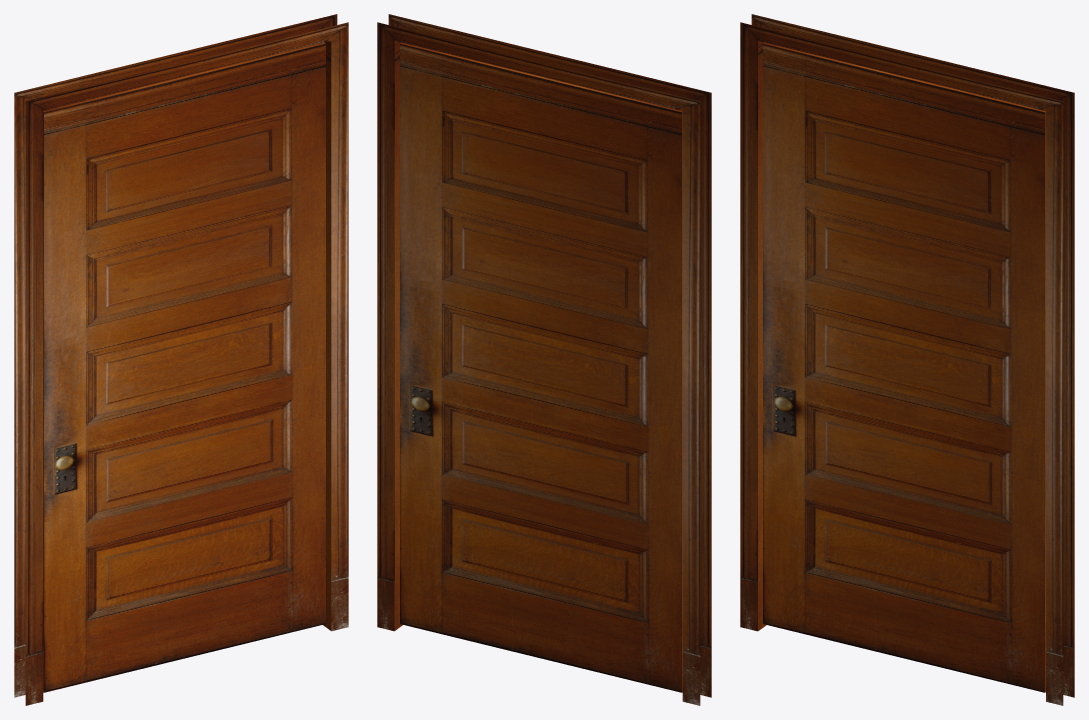
File: door2.glb
3 views of the same model, side by side, from view 1: azimuth 30°, elevation 25°; view 2: azimuth 150°, elevation 25°; view 3: azimuth 330°, elevation 25° (orthographic).
Visible parts, largest first — view 1: InteriorDoor, InteriorDoorProfile; view 2: InteriorDoor, InteriorDoorProfile; view 3: InteriorDoor, InteriorDoorProfile.
Boxes of the visible parts, <box> form: InteriorDoor: <box>43,42,325,692</box>; InteriorDoorProfile: <box>14,14,348,705</box>; InteriorDoor: <box>400,42,682,692</box>; InteriorDoorProfile: <box>377,14,711,705</box>; InteriorDoor: <box>763,42,1045,692</box>; InteriorDoorProfile: <box>740,14,1074,705</box>.
Bounding box in the file's own units: 1.32 × 2.36 × 0.0798.
1 material, 1 textured.
